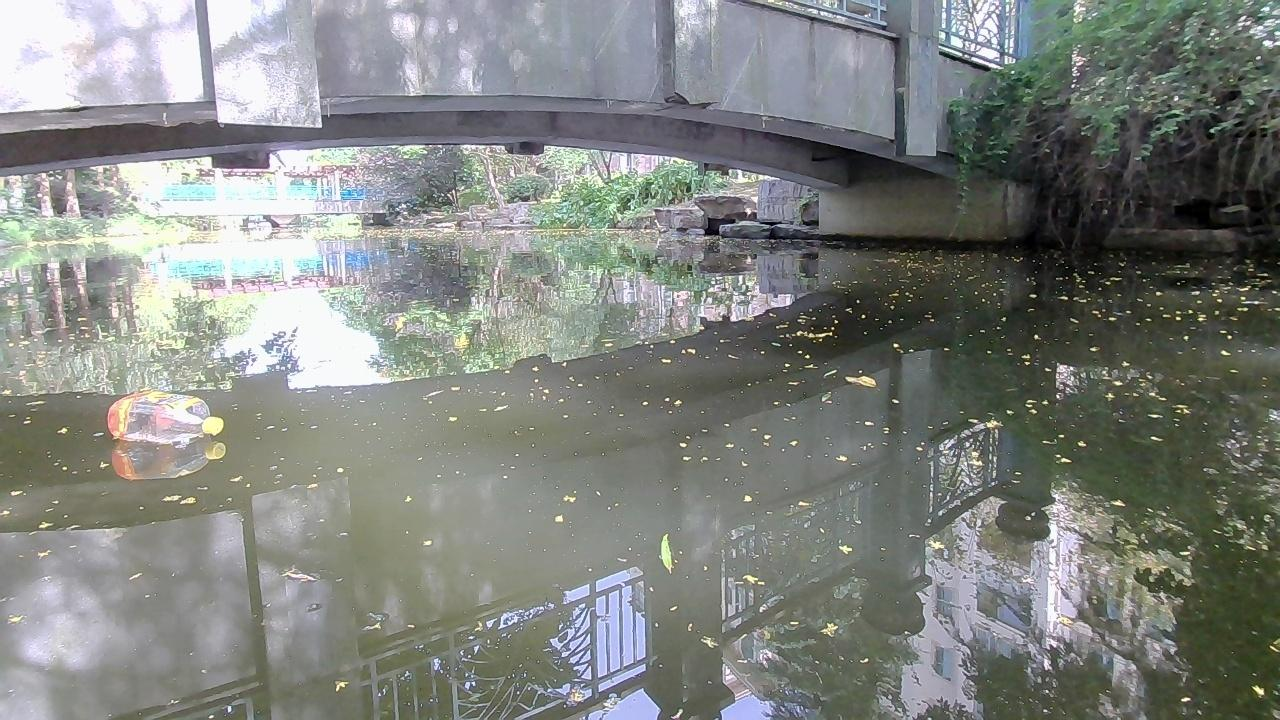bottle: (106, 391, 225, 445)
